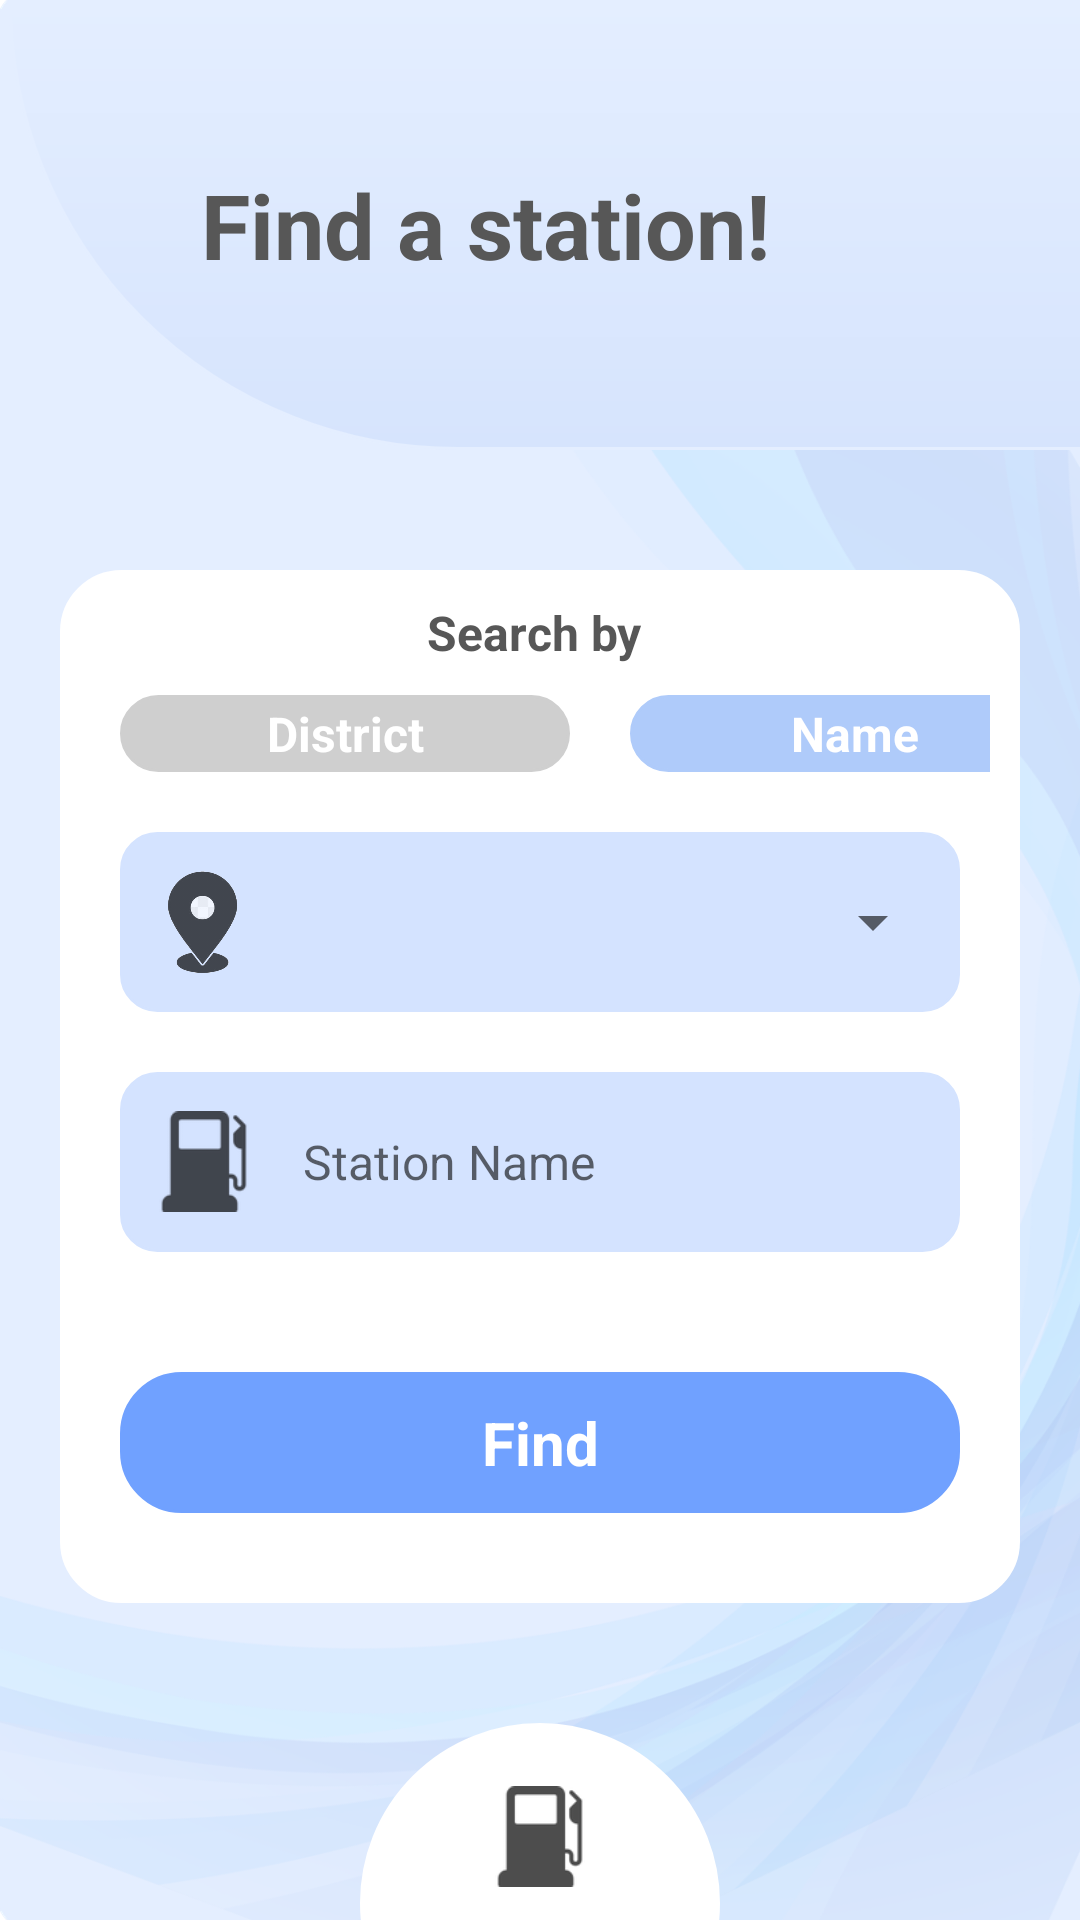

Named icons in this screenshot (1080 x 1920) and their bounding boxes, [x1,y1,x2,y2]:
location: [168,871,237,973]
